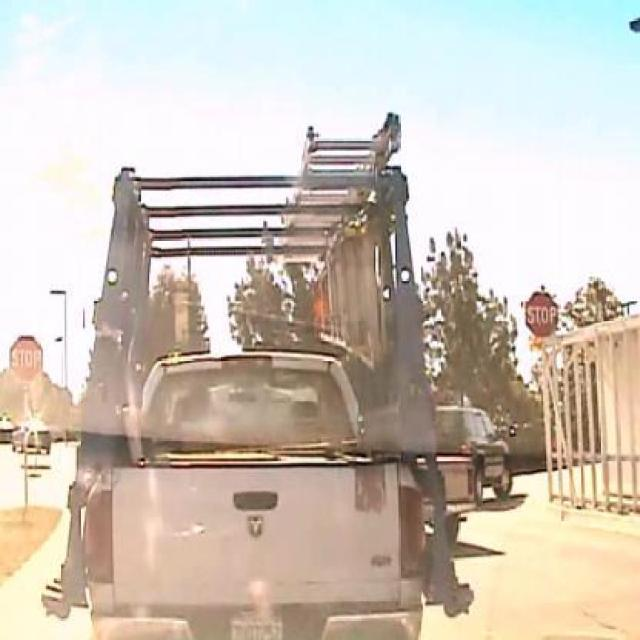stop: (8, 336, 44, 384), (523, 292, 559, 339)
